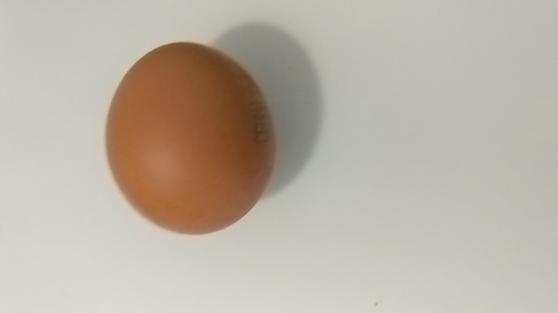egg: (106, 43, 279, 235)
